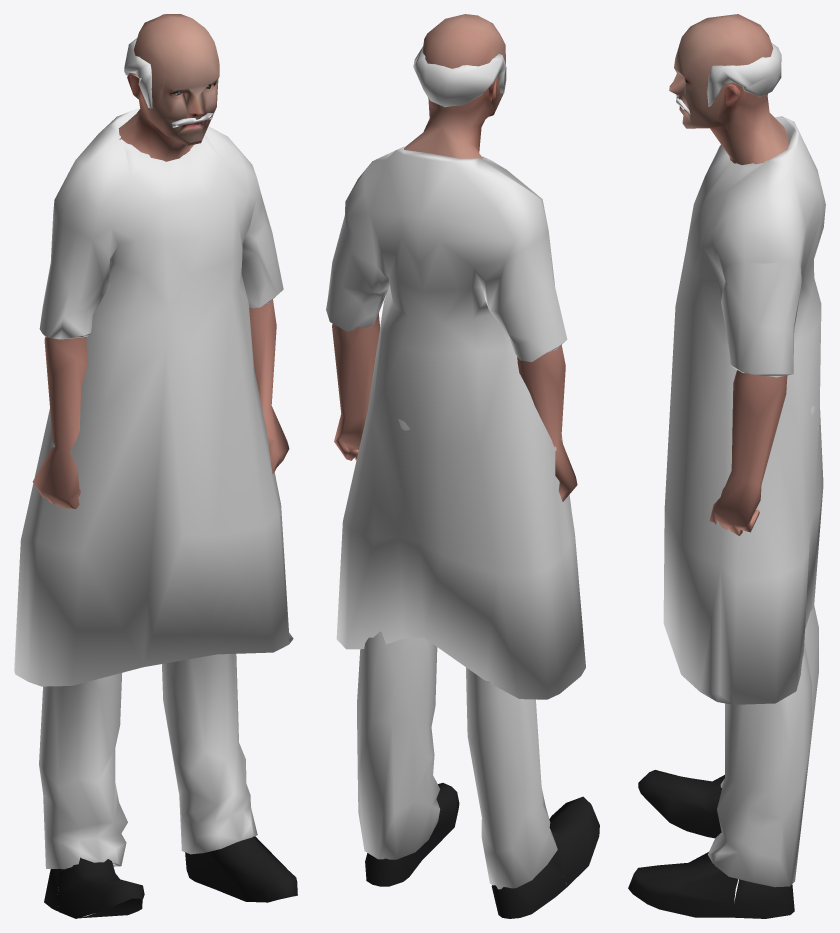
The model's file is old_man_veshti_stand.glb.
3 renders of one model, left to right at view 1: azimuth 30°, elevation 25°; view 2: azimuth 150°, elevation 25°; view 3: azimuth 270°, elevation 25°, orthographic. The views are drawn at different scales.
Parts seen in each view (by area): view 1: geometry_0; view 2: geometry_0; view 3: geometry_0.
Boxes of the visible parts, left/top/right/bottom form: geometry_0: left=14, top=14, right=297, bottom=918; geometry_0: left=326, top=14, right=599, bottom=918; geometry_0: left=628, top=14, right=825, bottom=918.
Bounding box in the file's own units: 0.5209 × 1.71 × 0.3547.
Materials: 1 (1 with a texture image).
